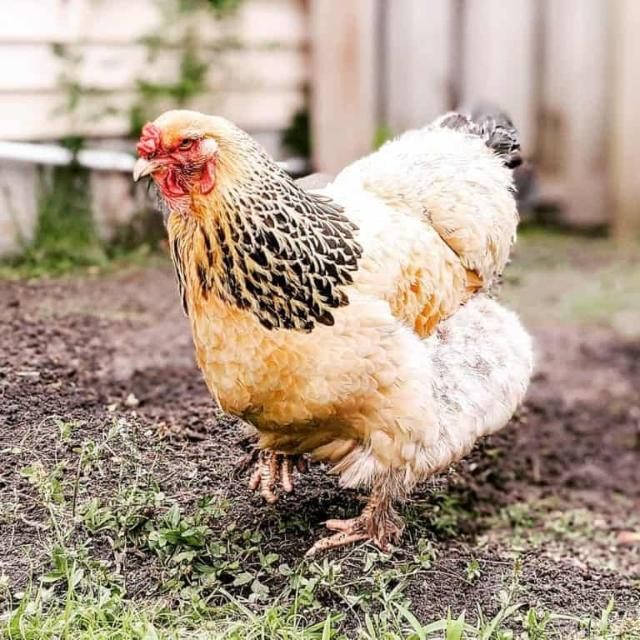Chicken: (131, 107, 533, 558)
